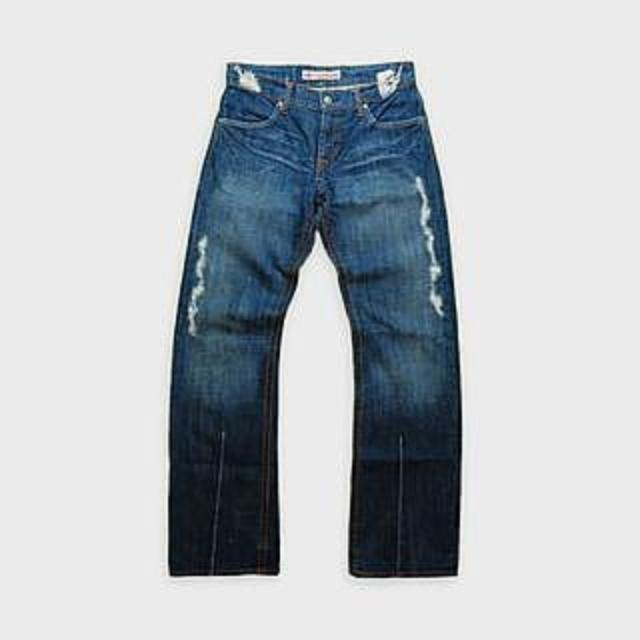TROUSER: (146, 54, 482, 587)
